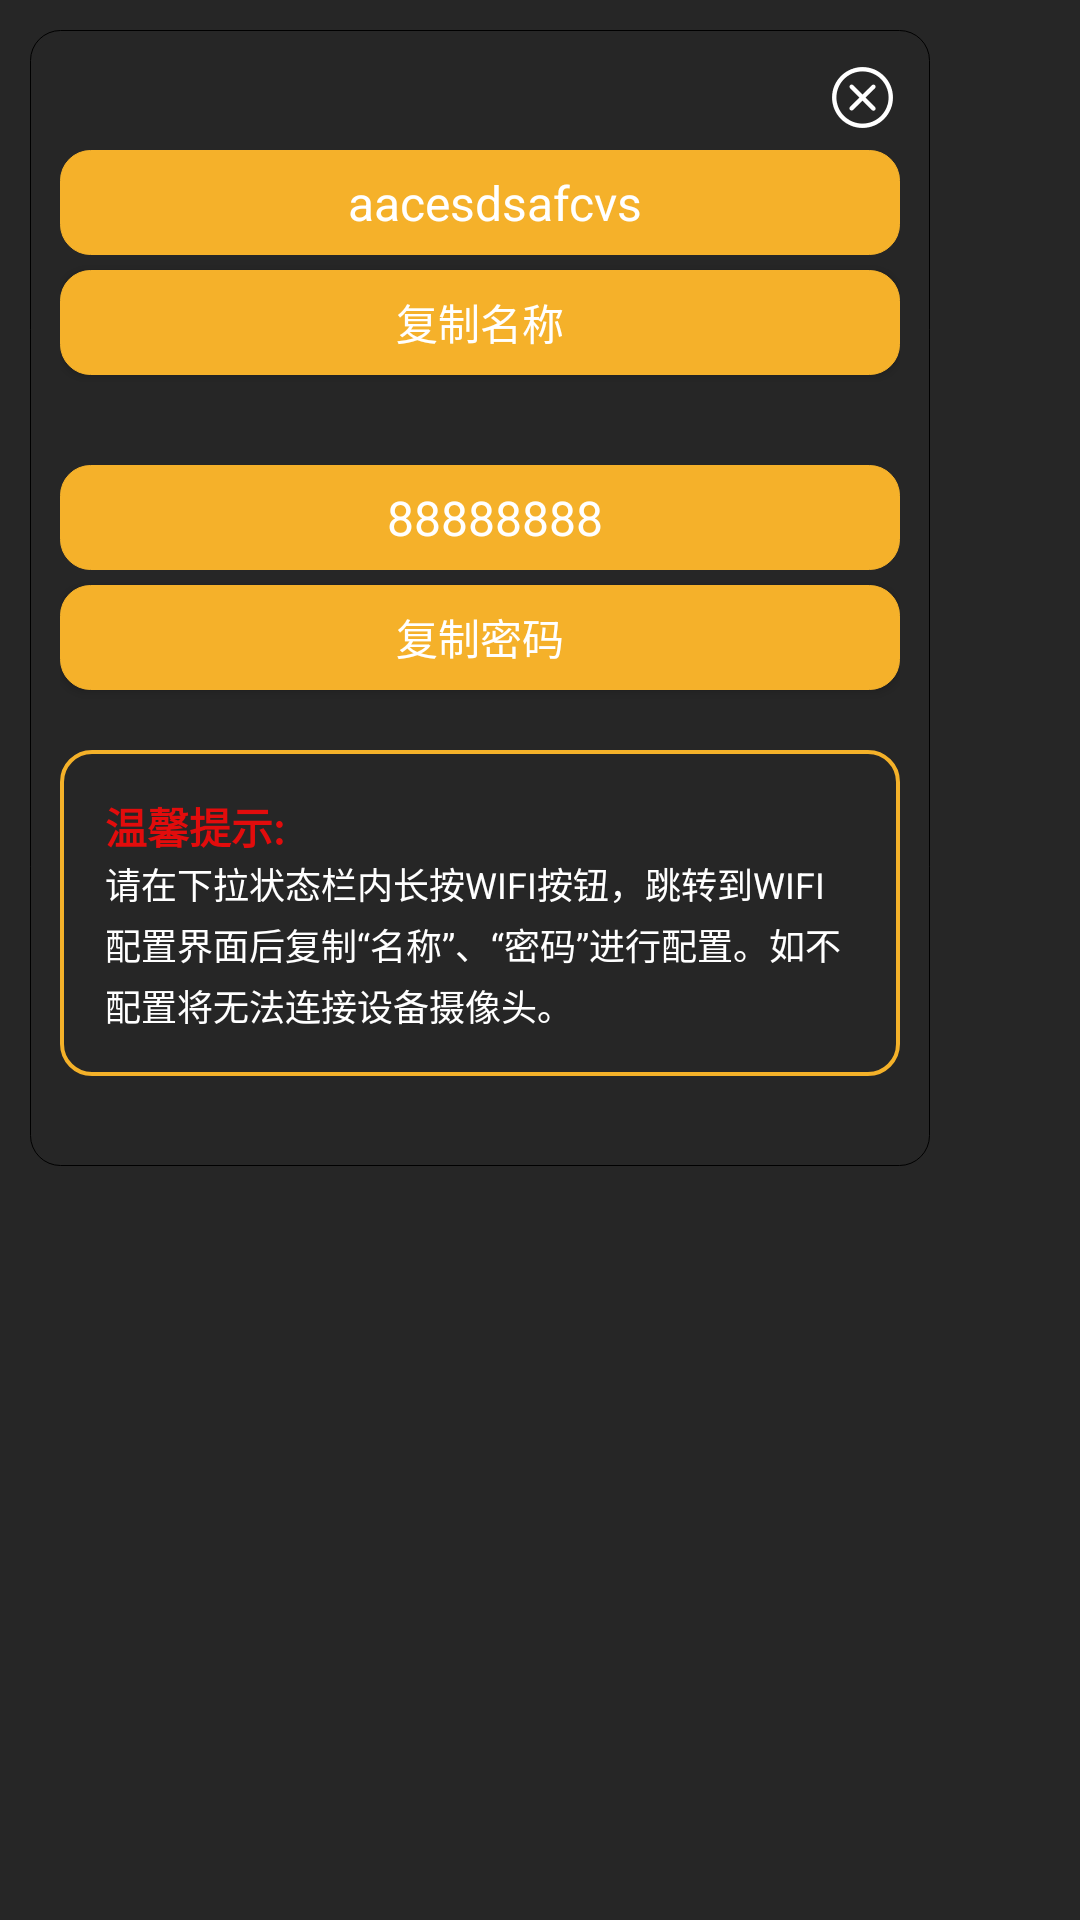

Point at icon controls on the screen. Image size 1080 x 1920, points as [x,y].
close: [862,97]
